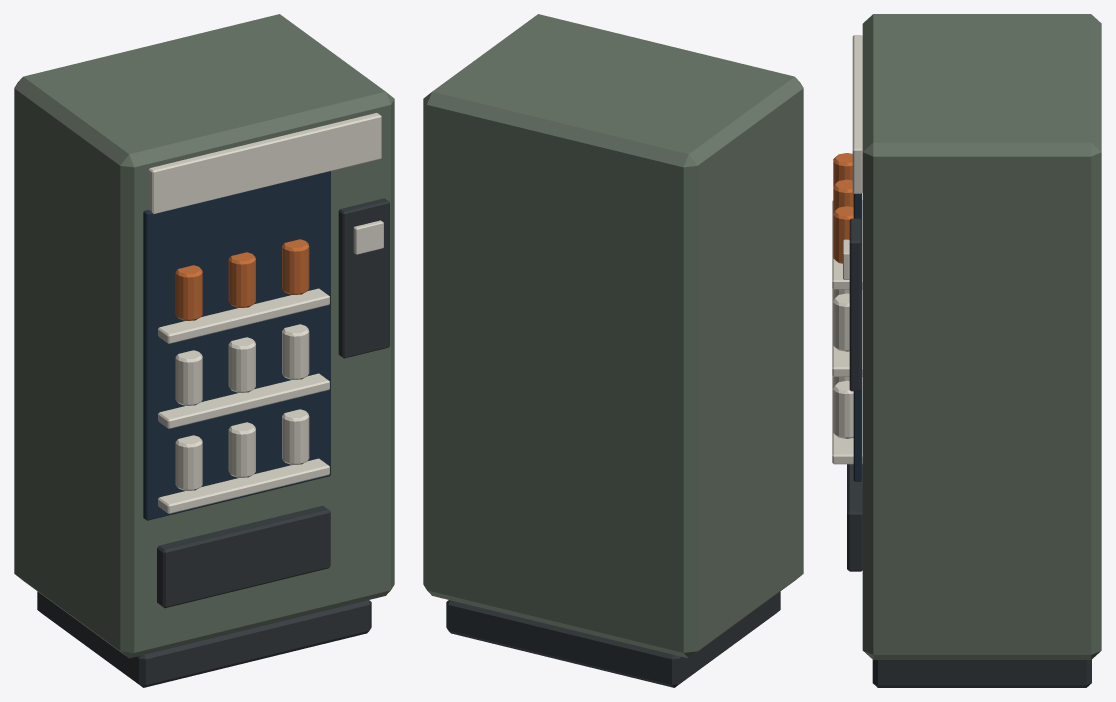
Rendered from BH_VendingMachine.glb.
3 renders of one model, left to right at view 1: azimuth 30°, elevation 25°; view 2: azimuth 150°, elevation 25°; view 3: azimuth 270°, elevation 25°, orthographic. The views are drawn at different scales.
Visible parts, largest first — view 1: BH_VendingMachine_RenderMesh; view 2: BH_VendingMachine_RenderMesh; view 3: BH_VendingMachine_RenderMesh.
Boxes of the visible parts, box(x1,y1,x2,y2) form: BH_VendingMachine_RenderMesh: box(14, 14, 394, 687); BH_VendingMachine_RenderMesh: box(423, 14, 803, 687); BH_VendingMachine_RenderMesh: box(832, 14, 1101, 687).
Size of what is drawn, in the model's own units: 0.98 by 1.84 by 0.812.
